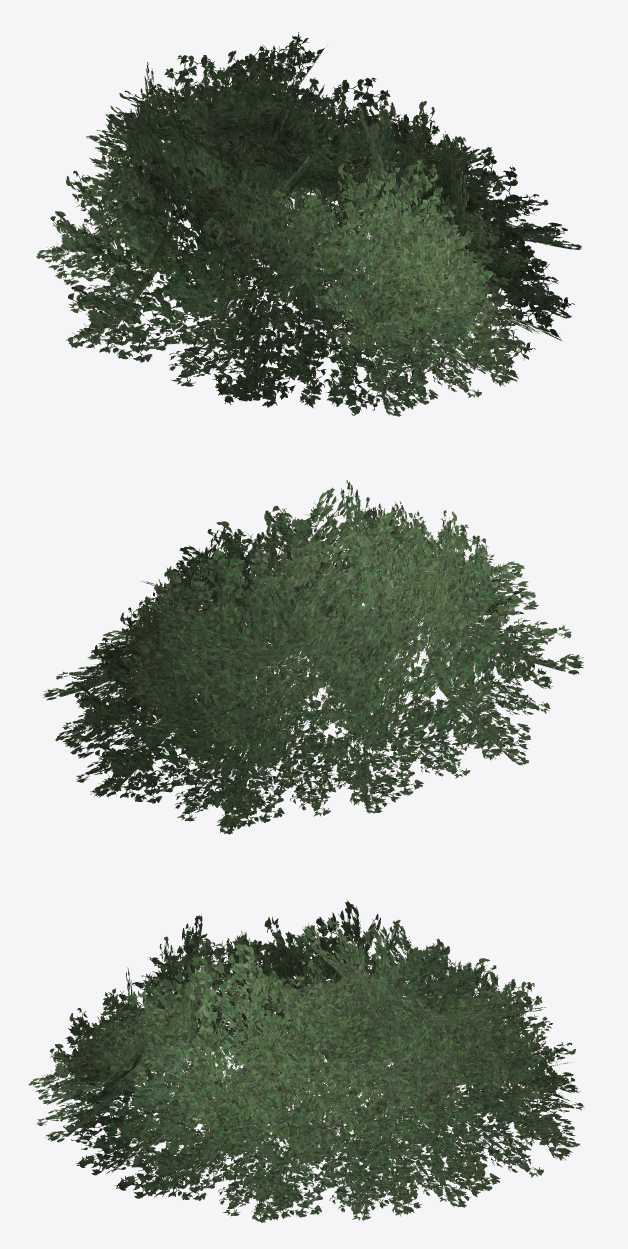
The model's file is shrb_giantlickbush_l1.fbx.
3 renders of one model, top to bottom at view 1: azimuth 30°, elevation 25°; view 2: azimuth 150°, elevation 25°; view 3: azimuth 270°, elevation 25°, orthographic. The views are drawn at different scales.
Parts seen in each view (by area): view 1: mesh_node; view 2: mesh_node; view 3: mesh_node.
Part boxes in pixels (x1,y1,x2,y2): mesh_node: [36, 32, 581, 416]; mesh_node: [43, 480, 583, 834]; mesh_node: [28, 900, 584, 1222].
Size of the model in its own units: 5.81 by 2.95 by 6.6.
1 material, 1 textured.
